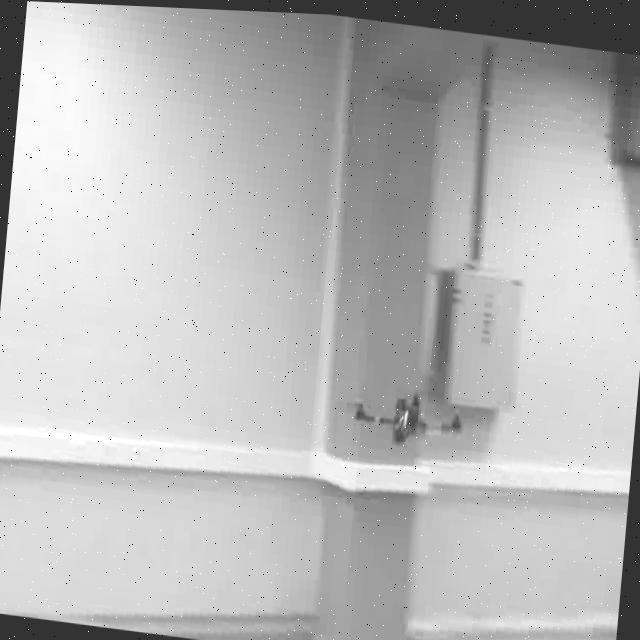drone: (346, 377, 465, 449)
